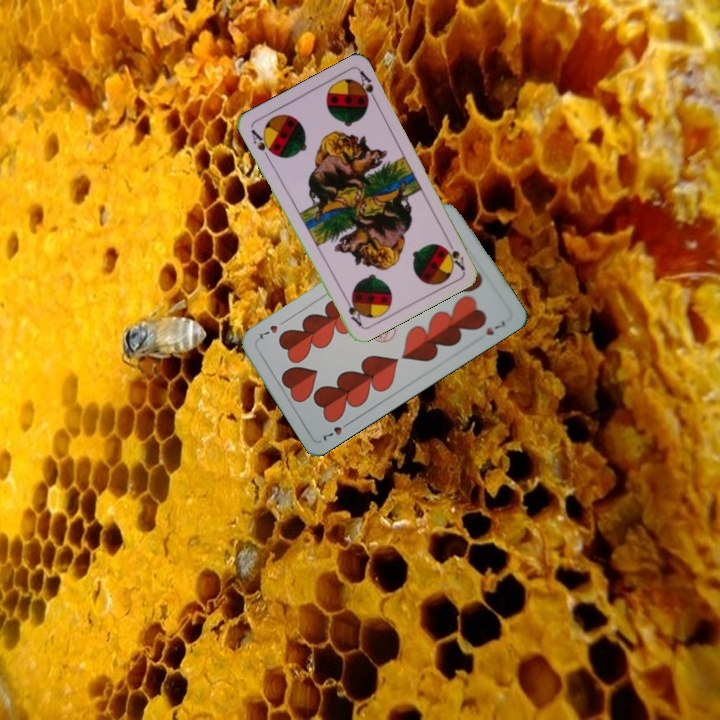H7: (319, 417, 354, 444)
SA: (247, 125, 277, 162), (442, 234, 467, 272)
